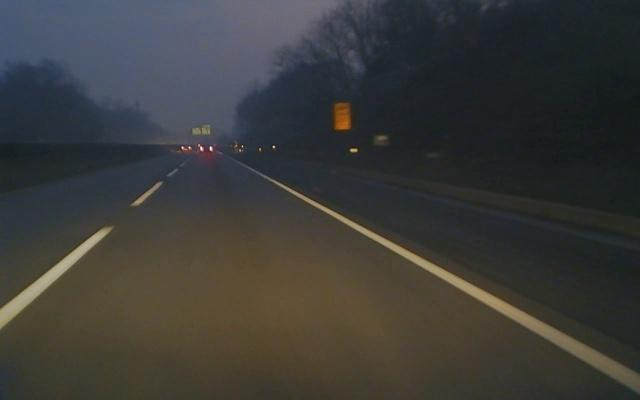lane: (231, 161, 640, 393), (0, 161, 185, 337)
